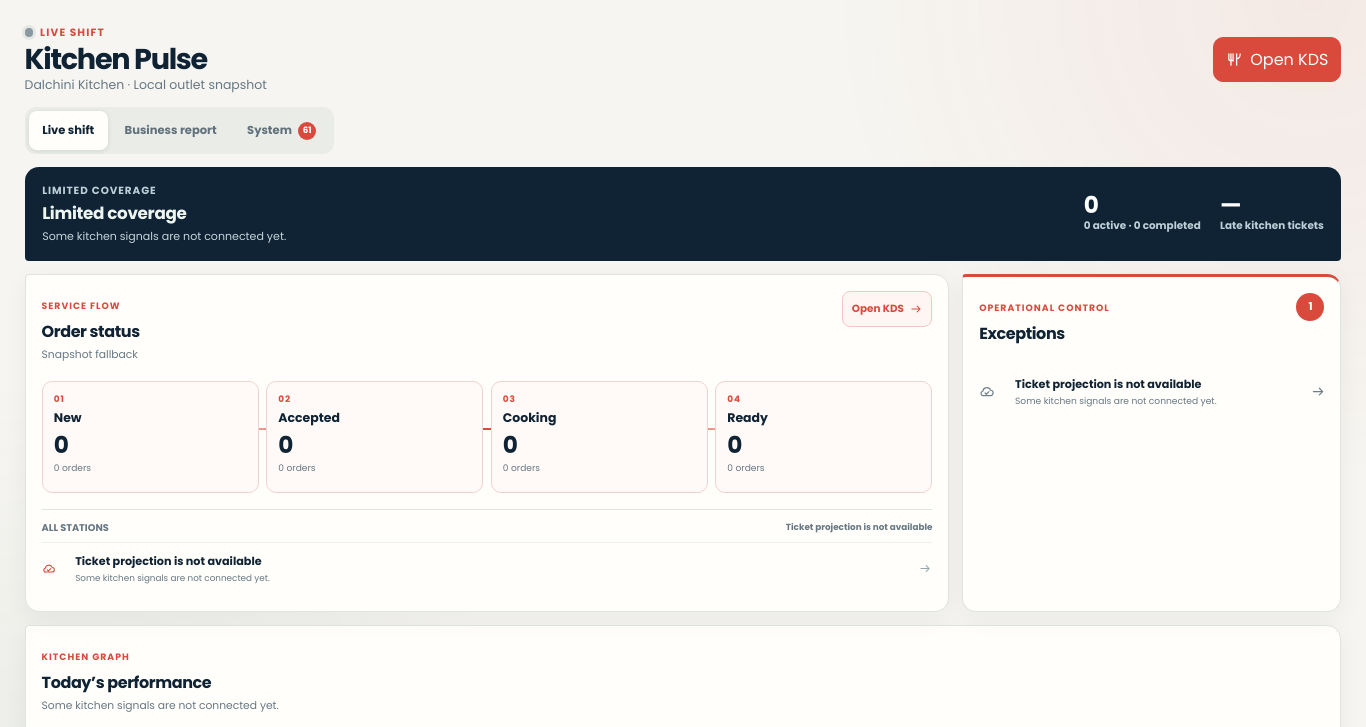
Scenario: Service board › groups data-quality issues as one action instead of a misleading review total
Click the tab "System 61" at (282, 131), box x1=234 y1=111 x2=330 y2=150
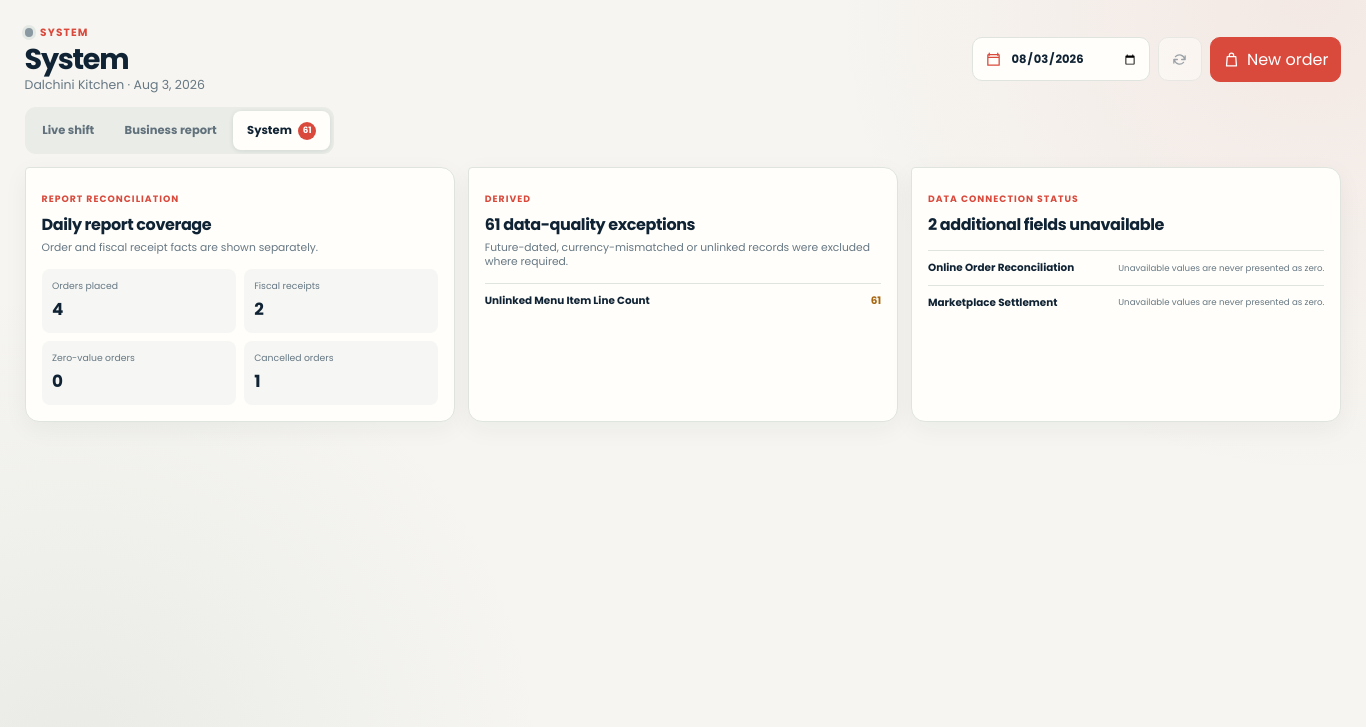
Check: the heading "61 data-quality exceptions" is shown, box x1=485 y1=213 x2=695 y2=236
Check: the text "Unlinked Menu Item Line Count" is shown, box x1=485 y1=293 x2=650 y2=309
Check: the text "61" in the row of "Unlinked Menu Item Line Count" is shown, box x1=871 y1=293 x2=881 y2=308
